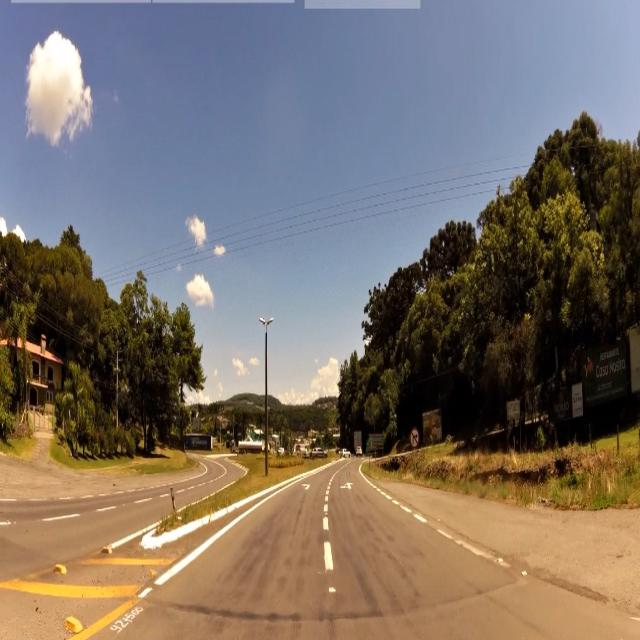R-4b: (408, 429, 422, 451)
